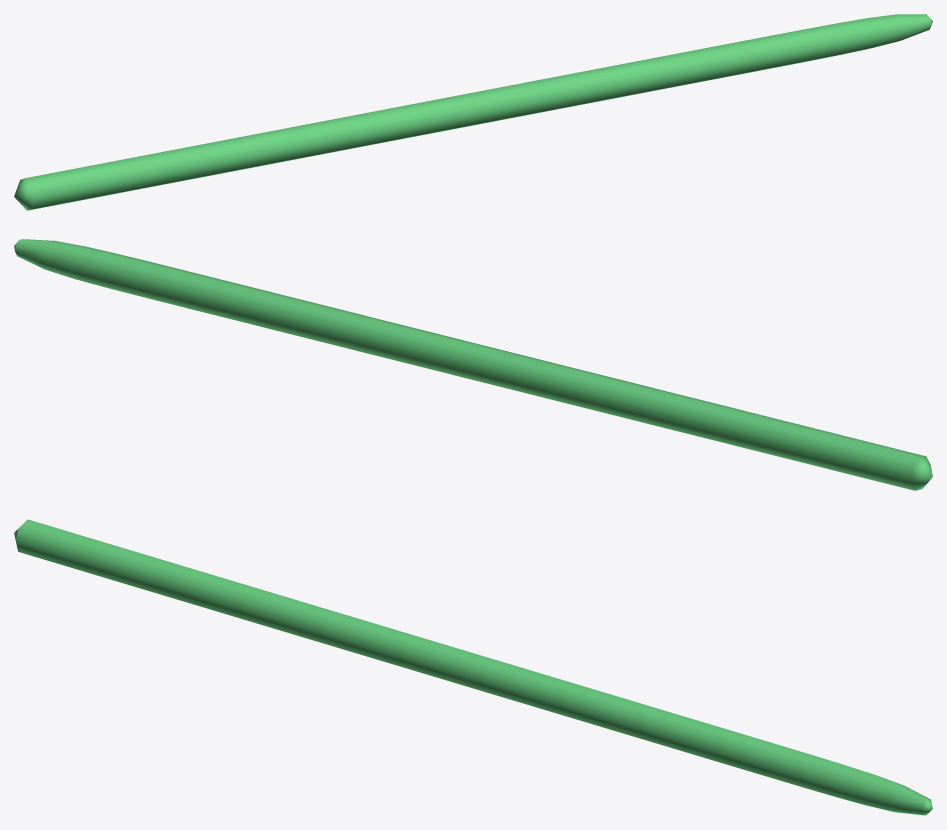
3 renders of one model, top to bottom at view 1: azimuth 30°, elevation 25°; view 2: azimuth 150°, elevation 25°; view 3: azimuth 330°, elevation 25°, orthographic. The views are drawn at different scales.
Visible parts, largest first — view 1: brush_Disco_g0_b0; view 2: brush_Disco_g0_b0; view 3: brush_Disco_g0_b0.
Boxes of the visible parts, box(x1,y1,x2,y2) form: brush_Disco_g0_b0: box(14, 14, 932, 210); brush_Disco_g0_b0: box(14, 239, 932, 490); brush_Disco_g0_b0: box(14, 519, 932, 815).
Size of the model in its own units: 14.09 by 0.7489 by 1.15.
